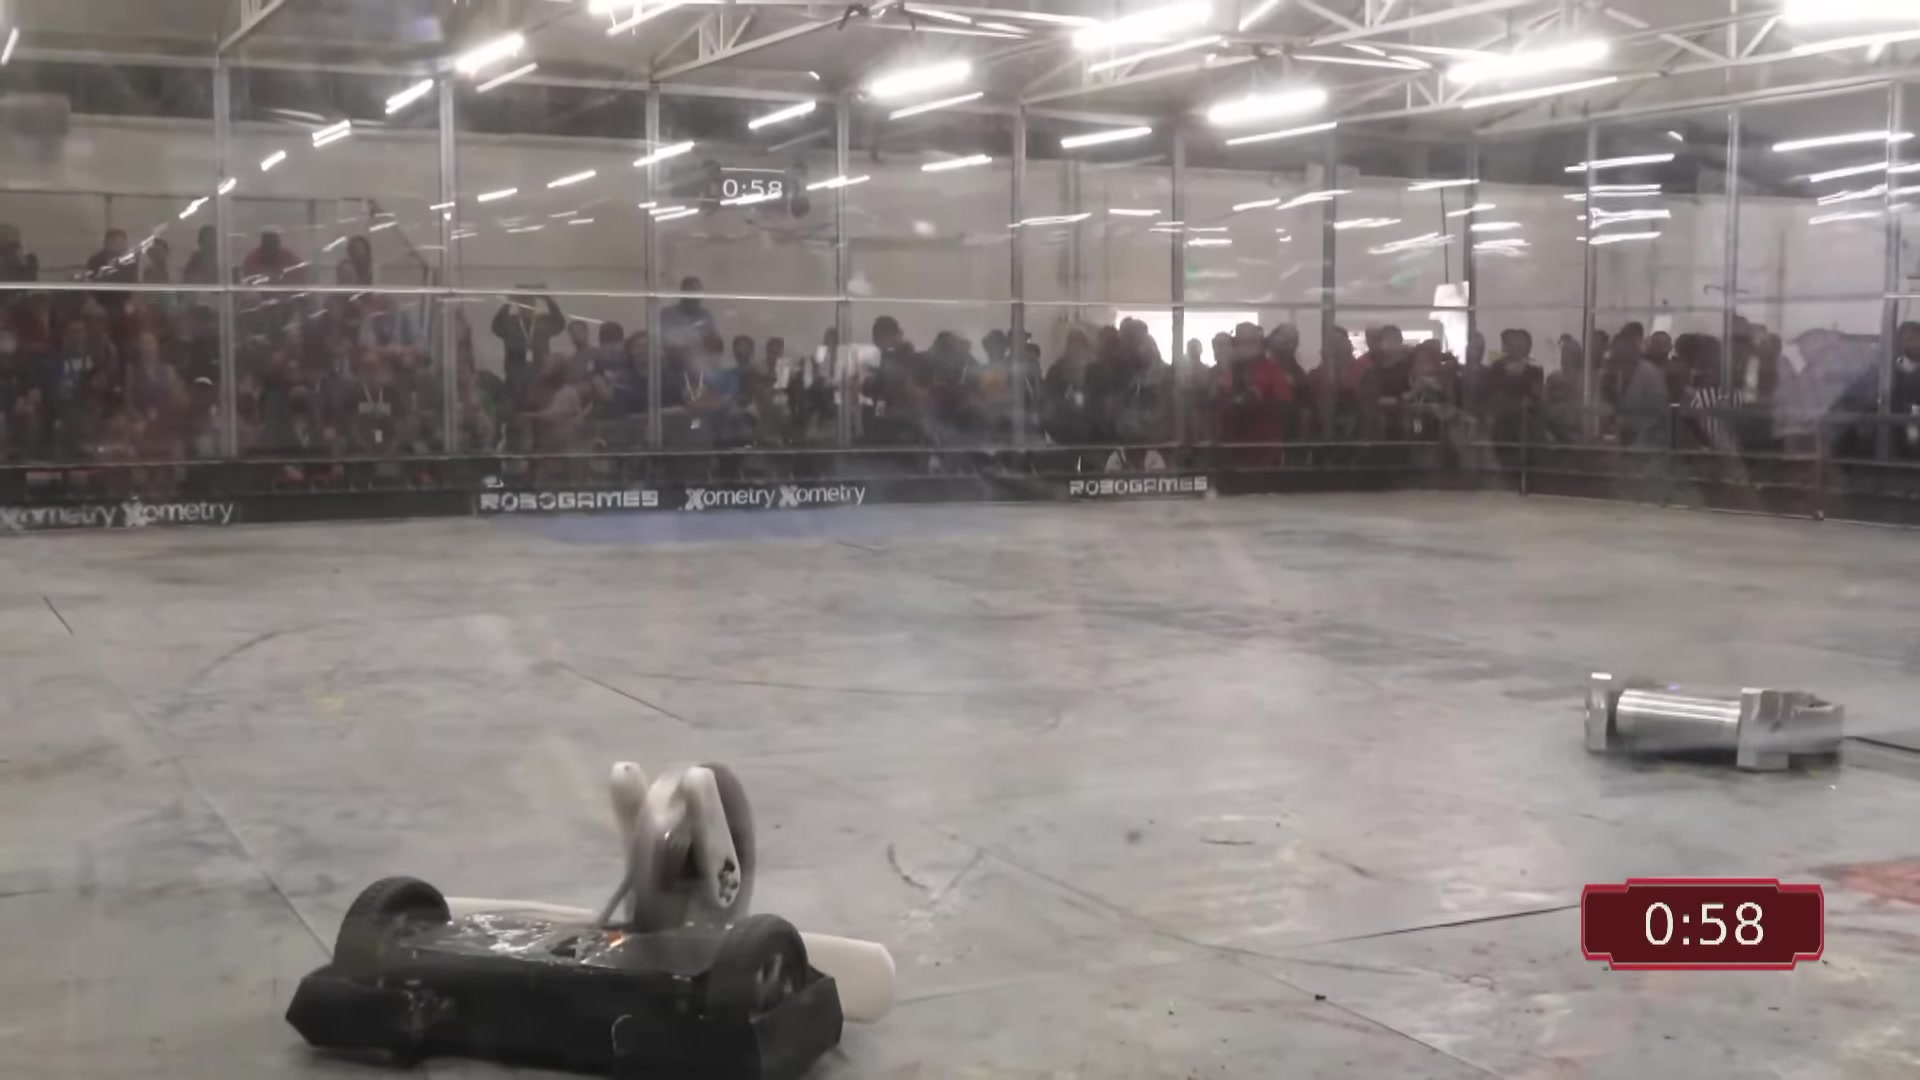combatbot: (285, 760, 902, 1077), (1585, 671, 1847, 773)
